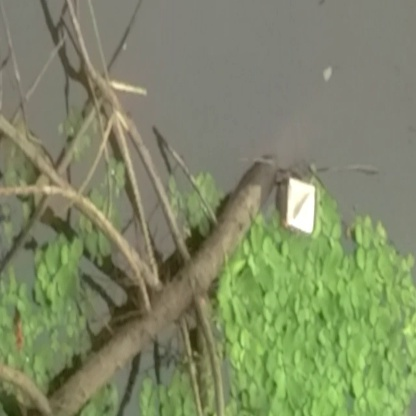milk-box: (277, 171, 326, 239)
